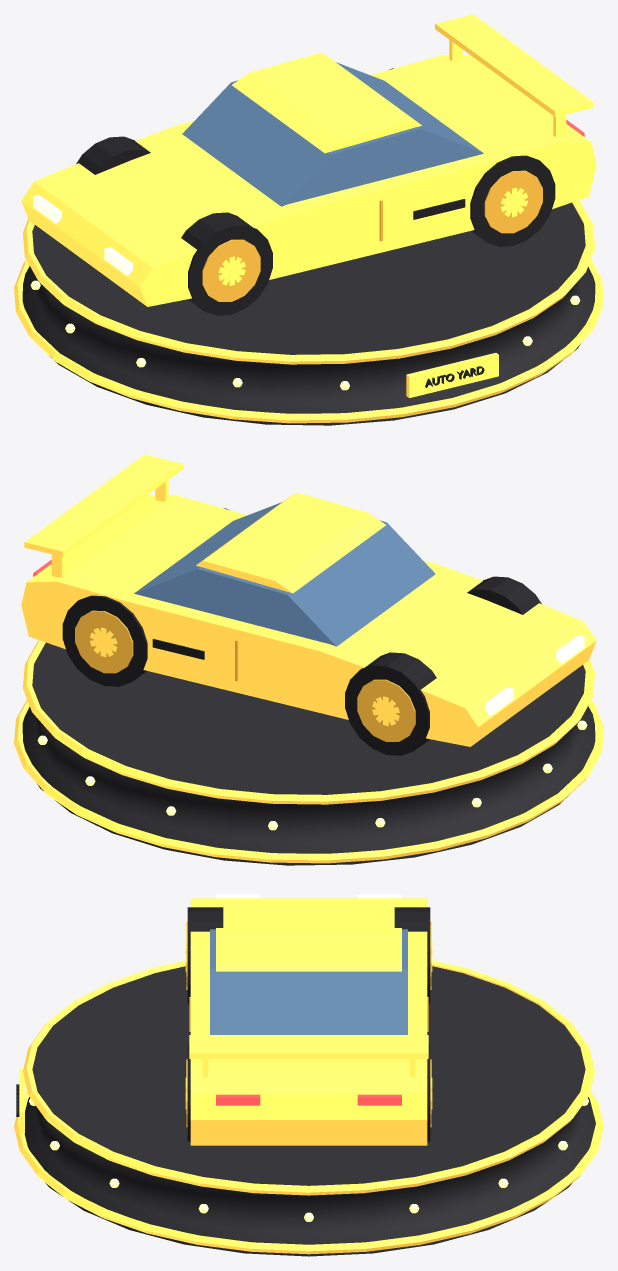
Rendered from lux_gold_car_statue.glb.
3 renders of one model, top to bottom at view 1: azimuth 30°, elevation 25°; view 2: azimuth 150°, elevation 25°; view 3: azimuth 270°, elevation 25°, orthographic.
Visible parts, largest first — view 1: lux_gold_car_statue; view 2: lux_gold_car_statue; view 3: lux_gold_car_statue.
Part boxes in pixels (x1,y1,x2,y2): lux_gold_car_statue: [14, 14, 603, 425]; lux_gold_car_statue: [14, 454, 603, 865]; lux_gold_car_statue: [14, 894, 603, 1256].
Bounding box in the file's own units: 3.99 × 1.51 × 3.99.
